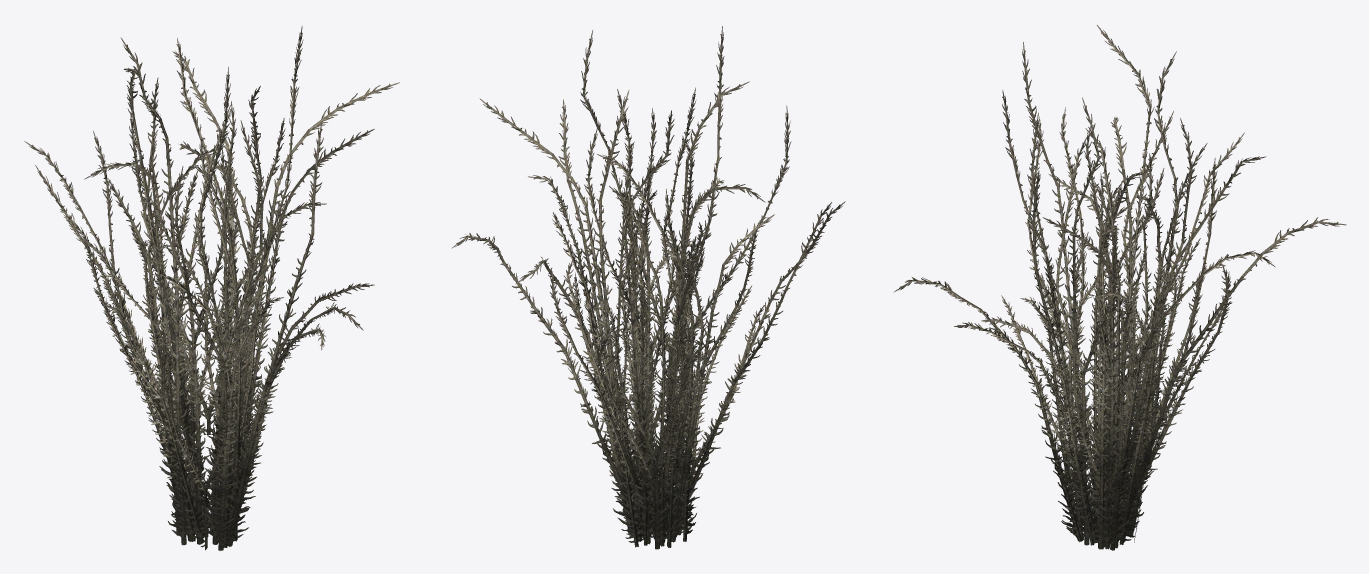
Rendered from runtime-palo-santo.glb.
The picture shows the model from 3 angles, left to right: view 1: azimuth 30°, elevation 25°; view 2: azimuth 150°, elevation 25°; view 3: azimuth 270°, elevation 25°; orthographic projection. The views are drawn at different scales.
Parts seen in each view (by area): view 1: Ocotillo_Low; view 2: Ocotillo_Low; view 3: Ocotillo_Low.
Part boxes in pixels (box(x1,y1,x2,y2)): Ocotillo_Low: box(24, 26, 399, 550); Ocotillo_Low: box(452, 26, 845, 549); Ocotillo_Low: box(893, 25, 1346, 550).
Size of the model in its own units: 5.71 by 7.79 by 6.64.
Materials: 1 (1 with a texture image).
